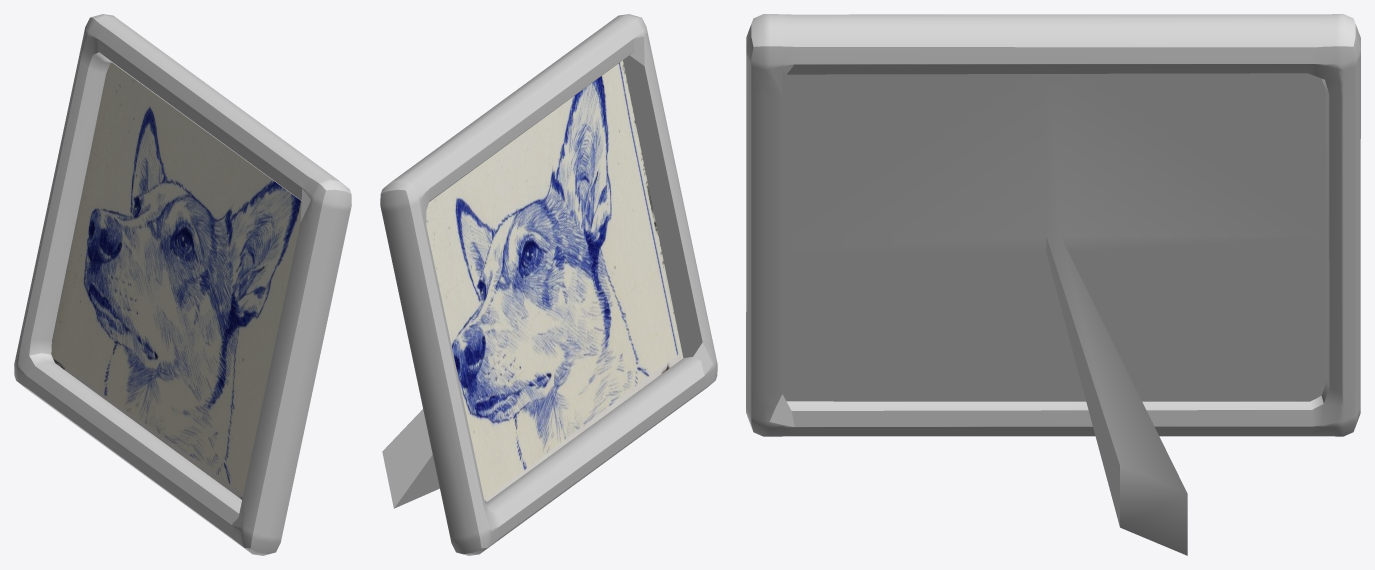
Rendered from PhotoV6.fbx.
The picture shows the model from 3 angles, left to right: view 1: azimuth 30°, elevation 25°; view 2: azimuth 150°, elevation 25°; view 3: azimuth 270°, elevation 25°; orthographic projection. The views are drawn at different scales.
Visible parts, largest first — view 1: pCube125; view 2: pCube125; view 3: pCube125.
Boxes of the visible parts, bbox=[...] form: pCube125: bbox=[14, 14, 351, 555]; pCube125: bbox=[380, 14, 717, 555]; pCube125: bbox=[746, 14, 1360, 555].
Size of the model in its own units: 22.66 by 50.3 by 56.6.
